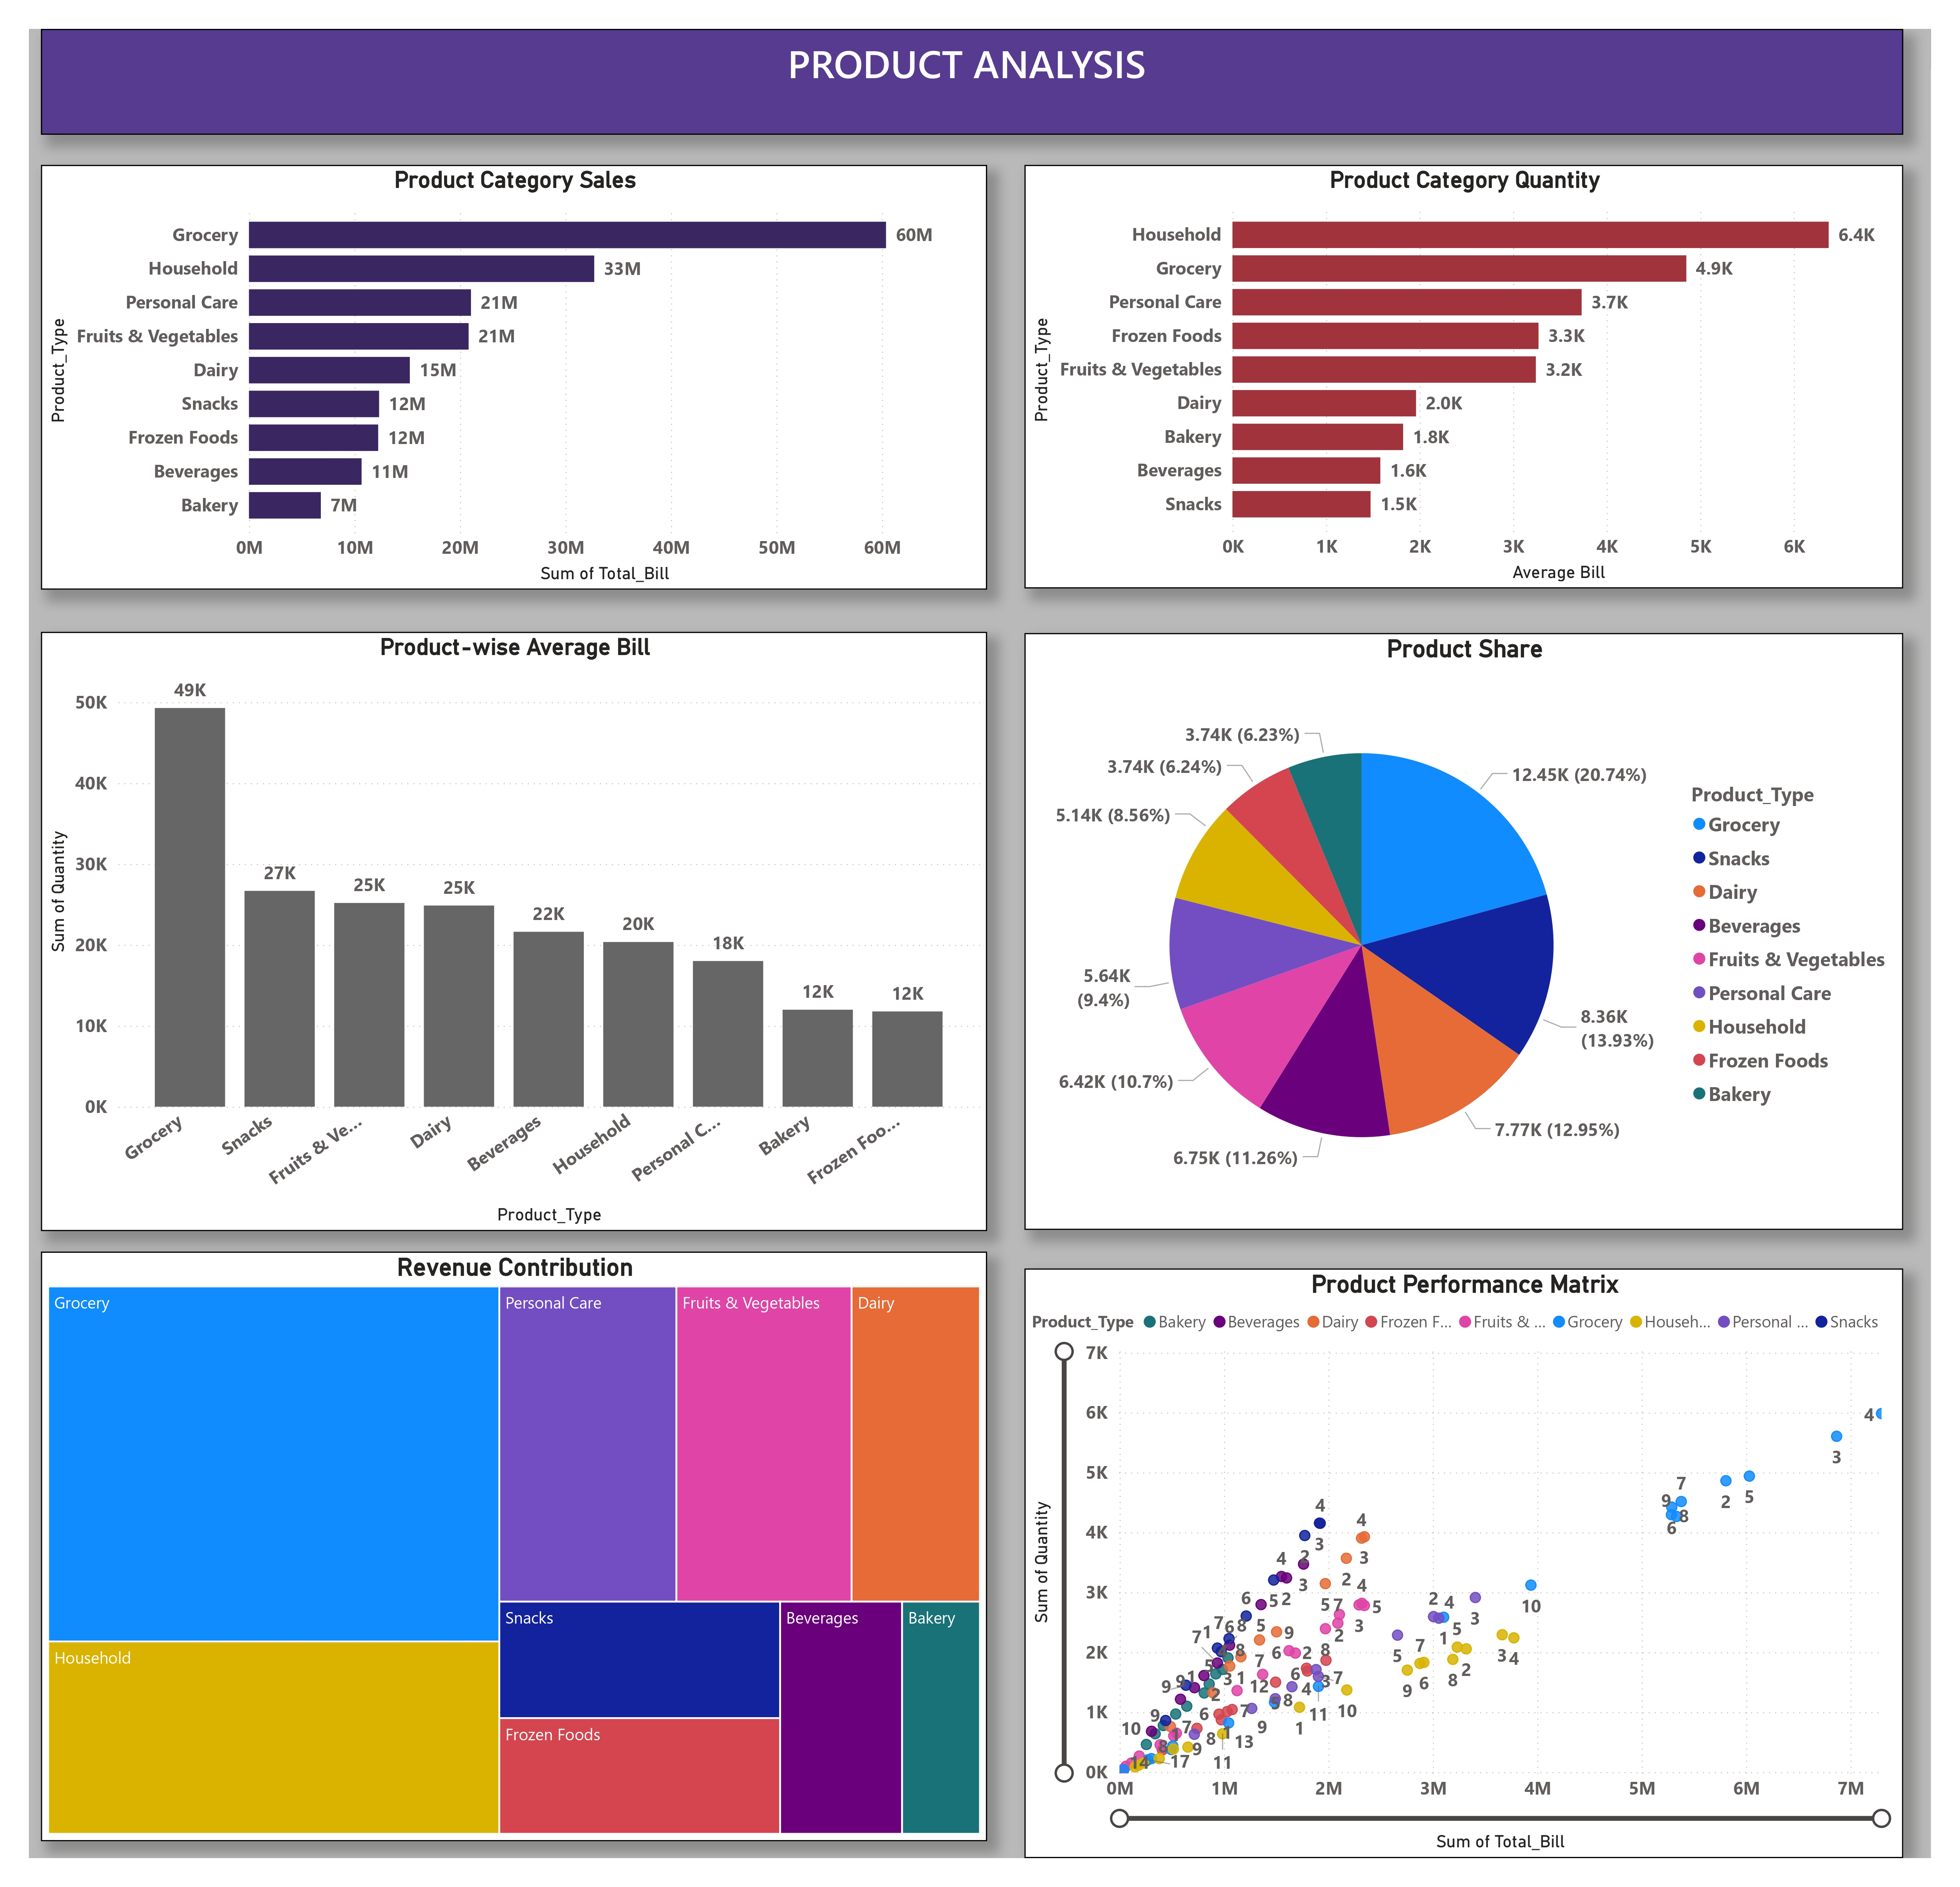

The page's visual inventory and layout, read from the dashboard file:
{"tool":"powerbi","page":{"name":"PA","canvas":[1580,1520],"ordinal":4},"visuals":[{"type":"textbox","box":[10,0,1546.7,88.3],"z":0},{"type":"clusteredBarChart","title":"Product Category Sales","fields":{"Category":["supermarketdata.Product_Type"],"Y":["Sum(supermarketdata.Total_Bill)"]},"box":[10,112.9,785.7,352.9],"z":1000},{"type":"columnChart","title":"Product-wise Average Bill","fields":{"Category":["supermarketdata.Product_Type"],"Y":["Sum(supermarketdata.Quantity)"]},"box":[10,501.4,785.7,497.1],"z":2000},{"type":"treemap","title":"Revenue Contribution","fields":{"Group":["supermarketdata.Product_Type"],"Values":["Sum(supermarketdata.Total_Bill)"]},"box":[10,1015.7,785.7,490],"z":3000},{"type":"clusteredBarChart","title":"Product Category Quantity","fields":{"Category":["supermarketdata.Product_Type"],"Y":["supermarketdata.Average Bill"]},"box":[826.7,113.3,730,351.7],"z":4000},{"type":"pieChart","title":"Product Share","fields":{"Category":["supermarketdata.Product_Type"],"Y":["CountNonNull(supermarketdata.Product_Type)"]},"box":[826.7,501.7,730,496.7],"z":5000},{"type":"scatterChart","title":"Product Performance Matrix","fields":{"X":["Sum(supermarketdata.Total_Bill)"],"Y":["Sum(supermarketdata.Quantity)"],"Category":["supermarketdata.Quantity"],"Series":["supermarketdata.Product_Type"]},"box":[827.1,1030,730,490],"z":6000}]}

Visuals, with their boxes in screenshot pixels (x1, y1, x2, y2), scaled from the page's 1580x1520 canvas onto the 1960x1887 screenshot:
textbox: 12 0 1931 110
"Product Category Sales" clusteredBarChart: 12 140 987 578
"Product-wise Average Bill" columnChart: 12 622 987 1240
"Revenue Contribution" treemap: 12 1261 987 1869
"Product Category Quantity" clusteredBarChart: 1026 141 1931 577
"Product Share" pieChart: 1026 623 1931 1240
"Product Performance Matrix" scatterChart: 1026 1279 1931 1887
